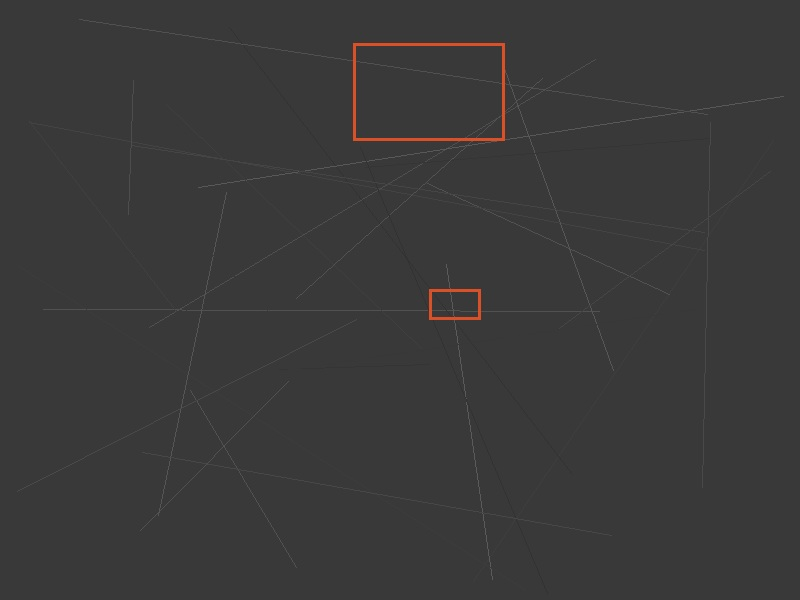D20: (429, 289, 480, 319)
D40: (353, 43, 504, 140)
